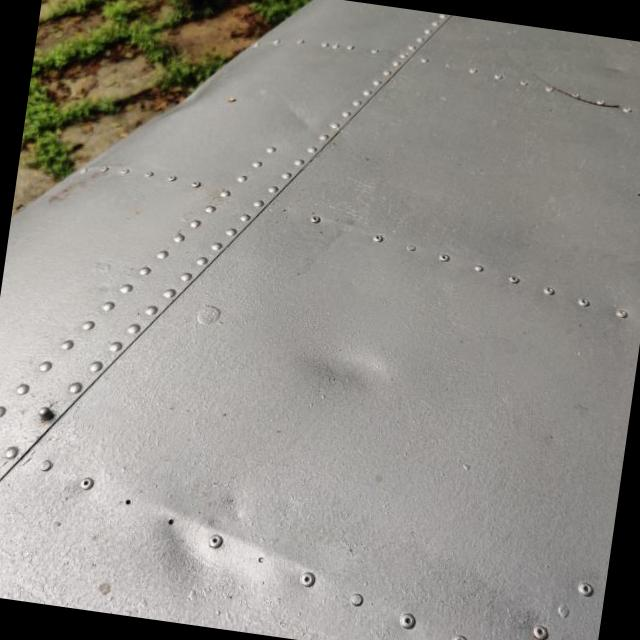Dent: (279, 289, 427, 431), (129, 477, 285, 608)
